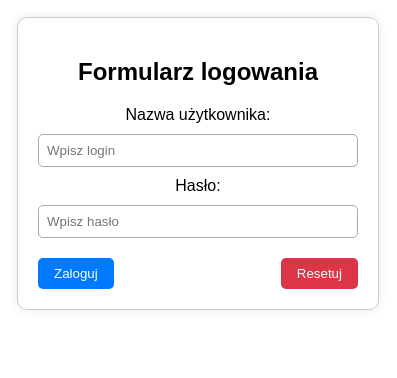
Test: Test formularza logowania › Powinien zalogować poprawnie użytkownika admin/1234
Type "admin" into the field with id "username".
click(198, 151); type("admin")  # box [38,134,358,167]
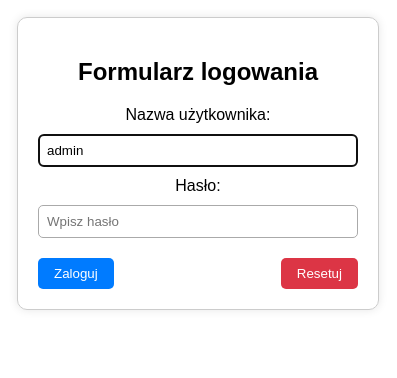
Type "1234" into the password field labelled "Hasło:".
click(198, 222); type("1234")  # box [38,205,358,238]
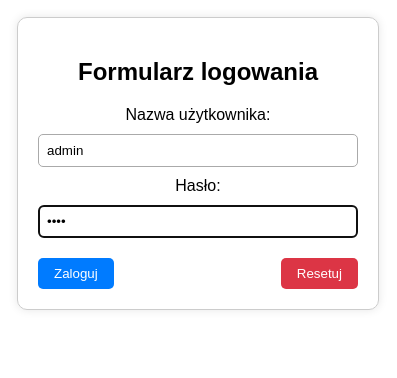
Click the button with id "login-button".
click(76, 274)  # box [38,258,114,289]
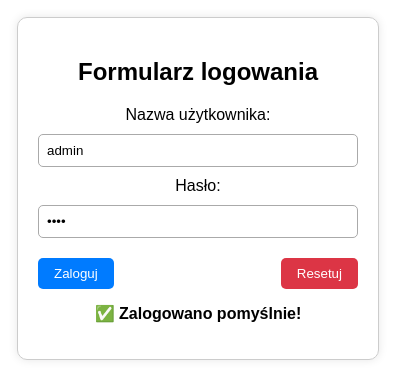
Check: the text with id "message" shows "Zalogowano pomyślnie!", box [95,305,302,322]
